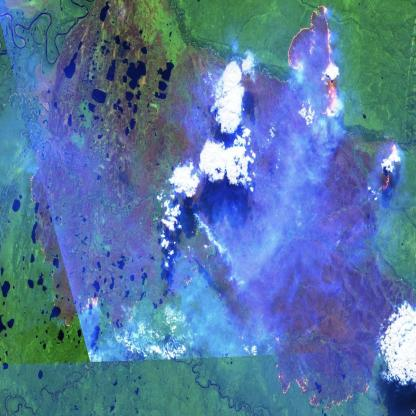fire: (226, 320, 376, 416), (27, 144, 101, 333), (284, 0, 345, 122), (367, 137, 408, 210)
